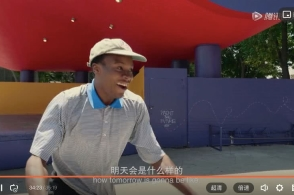no_mask: (88, 39, 147, 101)
